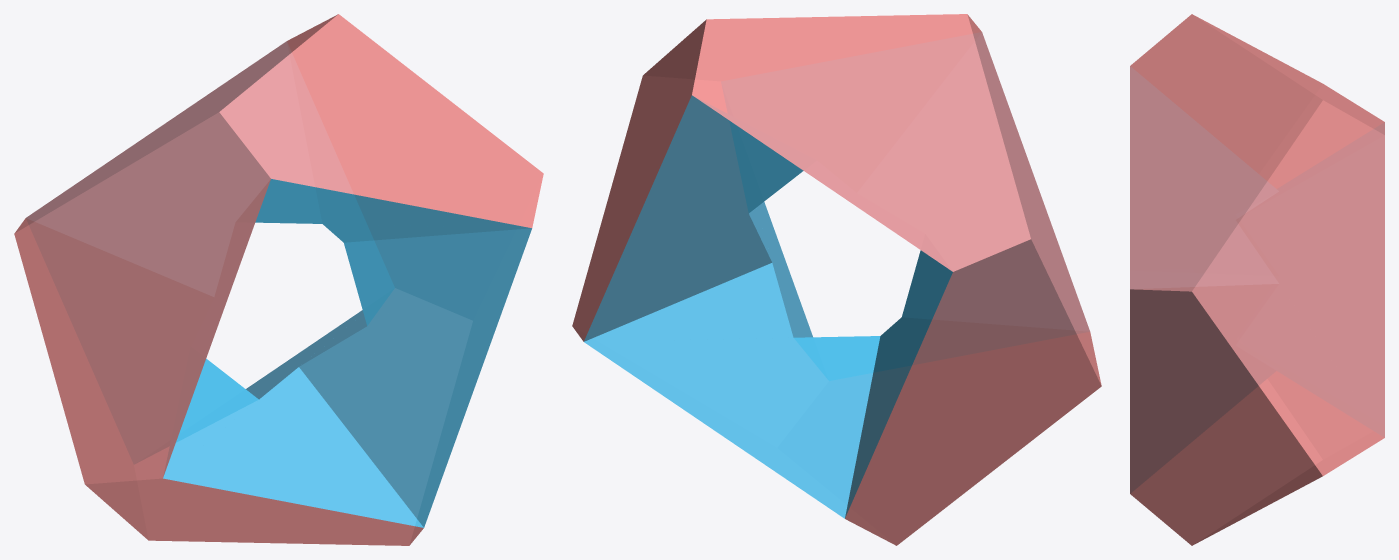
The model's file is TetragonalTrapezohedronToroid.obj.
3 renders of one model, left to right at view 1: azimuth 30°, elevation 25°; view 2: azimuth 150°, elevation 25°; view 3: azimuth 270°, elevation 25°, orthographic. The views are drawn at different scales.
Bounding box in the file's own units: 1.62 × 1.62 × 0.8408.
